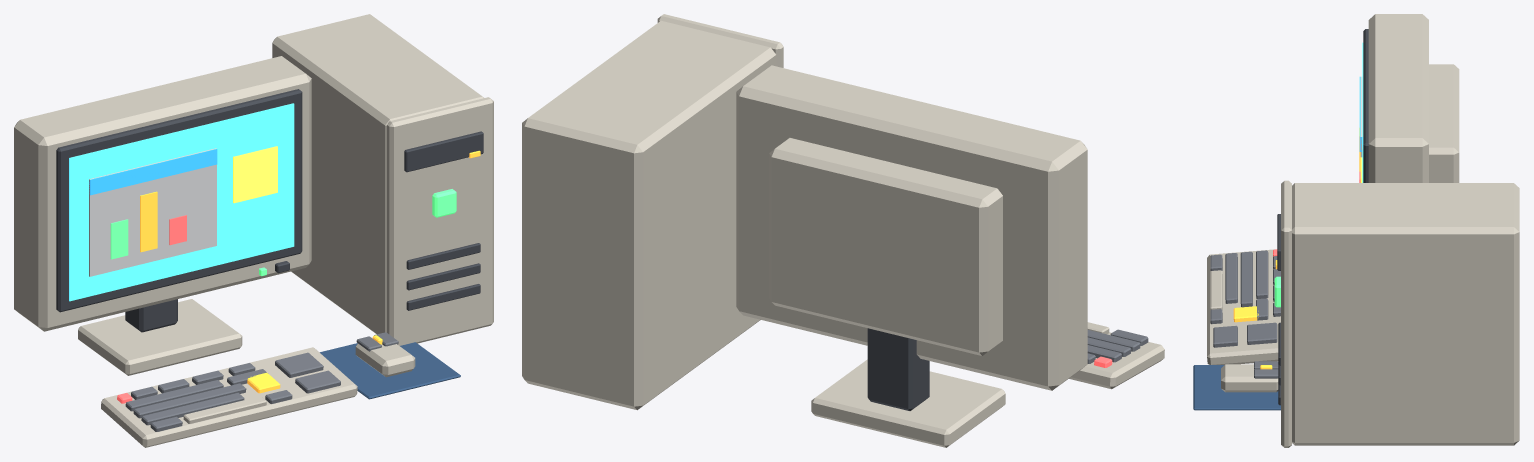
File: computer_tastiera.fbx
3 renders of one model, left to right at view 1: azimuth 30°, elevation 25°; view 2: azimuth 150°, elevation 25°; view 3: azimuth 270°, elevation 25°, orthographic. The views are drawn at different scales.
Parts seen in each view (by area): view 1: PC_Case, Monitor_Scocca, PC_Frontale, Monitor_Schermo, Monitor_Cornice, UI_Finestra, Monitor_Base, Tastiera_Base, Mouse_Tappetino, UI_Nota_Destra, UI_BarraTitolo, PC_Lettore_CD (+16 smaller); view 2: PC_Case, Monitor_Scocca, Monitor_Retro, Monitor_Base, Monitor_Collo, Tastiera_Base, PC_Frontale; view 3: PC_Case, Monitor_Scocca, Monitor_Retro, Tastiera_Base, PC_Frontale, Mouse_Tappetino, Mouse_Corpo, Monitor_Cornice, Tasto_7, Tasto_9, Tasto_14, Tasto_5 (+3 smaller).
Boxes of the visible parts, bbox=[...] form: PC_Case: bbox=[272, 14, 483, 334]; Monitor_Scocca: bbox=[14, 56, 311, 331]; PC_Frontale: bbox=[387, 97, 493, 345]; Monitor_Schermo: bbox=[69, 103, 294, 301]; Monitor_Cornice: bbox=[56, 89, 302, 312]; UI_Finestra: bbox=[89, 148, 216, 276]; Monitor_Base: bbox=[78, 299, 242, 375]; Tastiera_Base: bbox=[101, 347, 357, 447]; Mouse_Tappetino: bbox=[320, 342, 460, 399]; UI_Nota_Destra: bbox=[233, 146, 277, 203]; UI_BarraTitolo: bbox=[89, 149, 217, 195]; PC_Lettore_CD: bbox=[404, 131, 483, 172]; PC_Case: bbox=[522, 20, 776, 410]; Monitor_Scocca: bbox=[736, 65, 1087, 390]; Monitor_Retro: bbox=[769, 138, 1002, 355]; Monitor_Base: bbox=[811, 359, 1005, 447]; Monitor_Collo: bbox=[867, 328, 929, 410]; Tastiera_Base: bbox=[1069, 332, 1164, 389]; PC_Frontale: bbox=[657, 14, 783, 67]; PC_Case: bbox=[1292, 183, 1519, 445]; Monitor_Scocca: bbox=[1368, 14, 1428, 182]; Monitor_Retro: bbox=[1429, 64, 1459, 182]; Tastiera_Base: bbox=[1207, 249, 1280, 364]; PC_Frontale: bbox=[1281, 180, 1291, 447]; Mouse_Tappetino: bbox=[1193, 365, 1280, 410]; Mouse_Corpo: bbox=[1221, 364, 1278, 392]; Monitor_Cornice: bbox=[1363, 29, 1368, 182]; Tasto_7: bbox=[1240, 251, 1252, 307]; Tasto_9: bbox=[1225, 253, 1237, 303]; Tasto_14: bbox=[1247, 322, 1277, 344]; Tasto_5: bbox=[1256, 250, 1268, 298].
Bounding box in the file's own units: 83.7 × 49.44 × 59.5.
